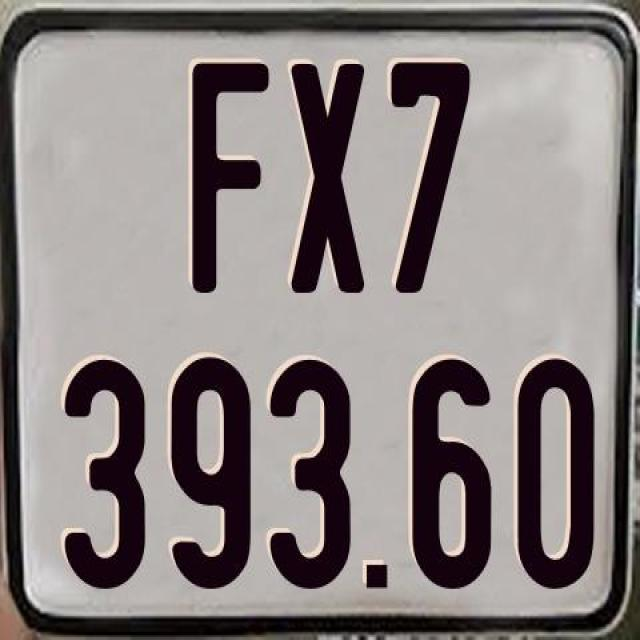0: (514, 357, 594, 589)
3: (62, 356, 150, 594), (266, 357, 348, 592)
6: (409, 358, 492, 590)
7: (386, 62, 466, 293)
9: (170, 357, 258, 589)
F: (188, 59, 271, 293)
X: (290, 62, 370, 301)
